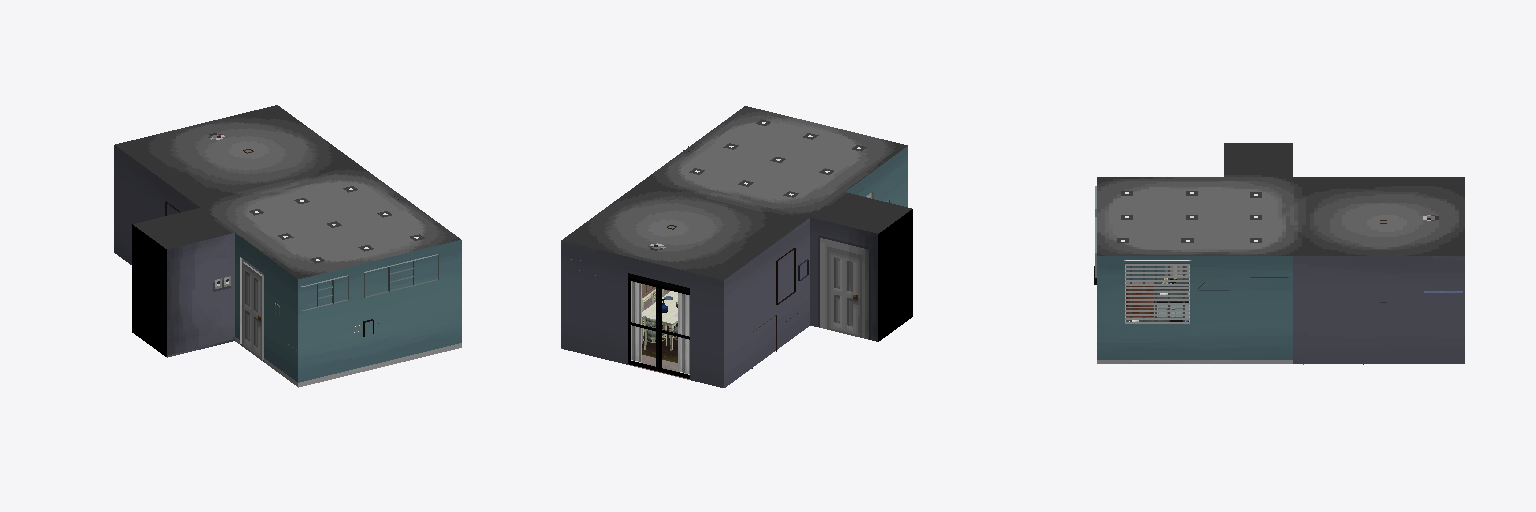
The picture shows the model from 3 angles: view 1: azimuth 30°, elevation 25°; view 2: azimuth 150°, elevation 25°; view 3: azimuth 270°, elevation 25°; orthographic projection.
Parts seen in each view (by area): view 1: Room_WallsRoofFloorExtras_0; view 2: Room_WallsRoofFloorExtras_0, Furniture_LivingRoomAlt_0, Items1_WallsRoofFloorExtras_0, Furniture_Cabet_Table_0; view 3: Room_WallsRoofFloorExtras_0, Items1_WallsRoofFloorExtras_0, Furniture_LivingRoomAlt_0.
Boxes of the visible parts, x1=… form: Room_WallsRoofFloorExtras_0: x1=114, y1=105, x2=461, y2=387; Room_WallsRoofFloorExtras_0: x1=561, y1=106, x2=912, y2=387; Furniture_LivingRoomAlt_0: x1=631, y1=146, x2=808, y2=374; Items1_WallsRoofFloorExtras_0: x1=628, y1=200, x2=889, y2=378; Furniture_Cabet_Table_0: x1=642, y1=291, x2=677, y2=350; Room_WallsRoofFloorExtras_0: x1=1097, y1=143, x2=1464, y2=363; Items1_WallsRoofFloorExtras_0: x1=1094, y1=260, x2=1191, y2=323; Furniture_LivingRoomAlt_0: x1=1095, y1=186, x2=1386, y2=364.
Bounding box in the file's own units: 492 × 227 × 679.
Materials: 8 (7 with a texture image).